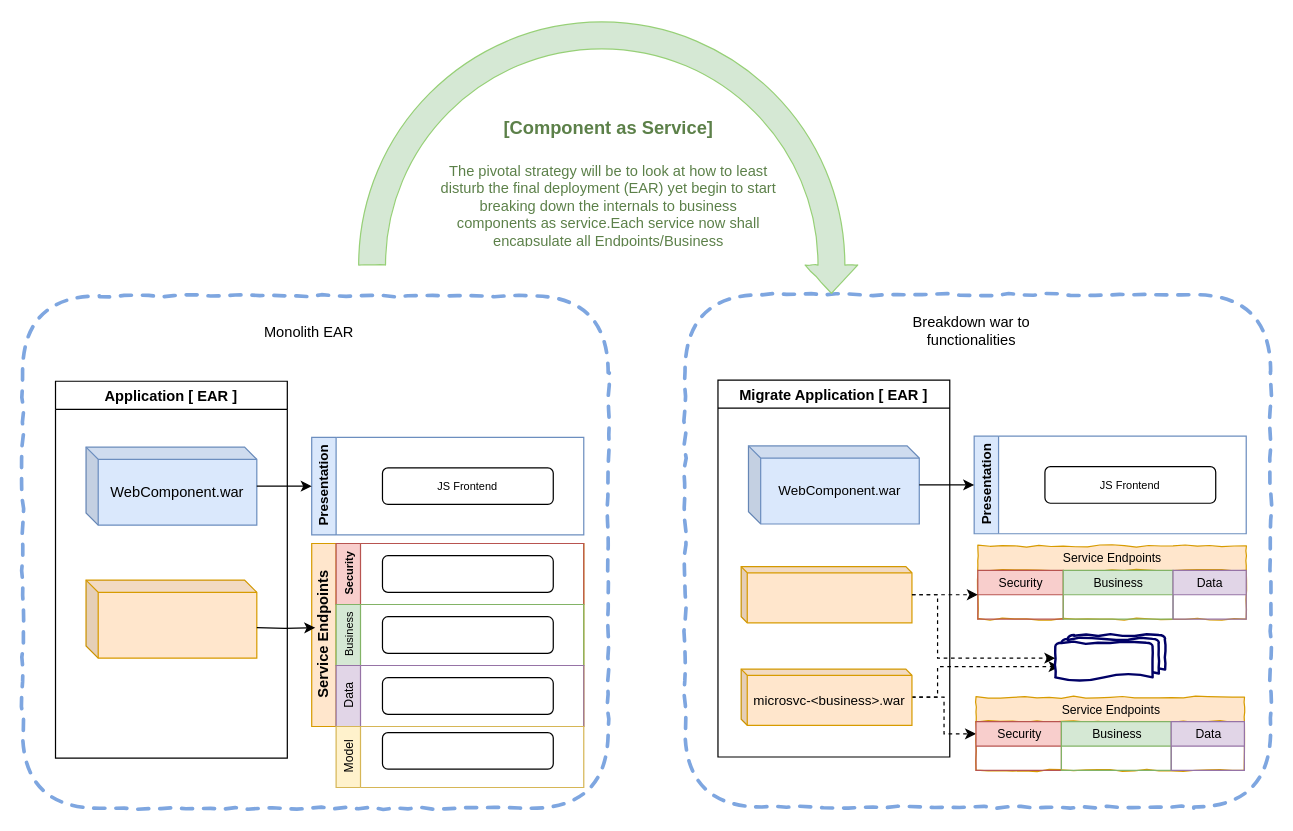
The diagram is 1293 pixels wide and 831 high, and some of its shapes have lost their labels. The shapes that lost their labels are listed below. From the top down, each one's centre as x and y in pixels, then its label:
At pixel 467 573: "app-security.jar".
At pixel 826 594: "microsvc-codes.war".
At pixel 171 618: "RestComponent.war".
At pixel 467 634: "app-business-services.jar".
At pixel 1109 657: "common.jars".
At pixel 467 695: "data-access.jar".
At pixel 467 750: "object-models.jar".
